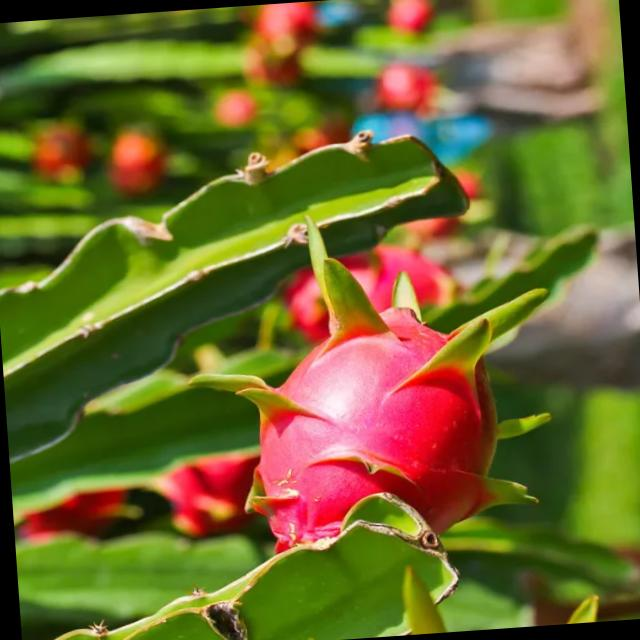Thanh Long: (219, 240, 558, 574), (275, 237, 457, 348), (151, 447, 267, 541)
